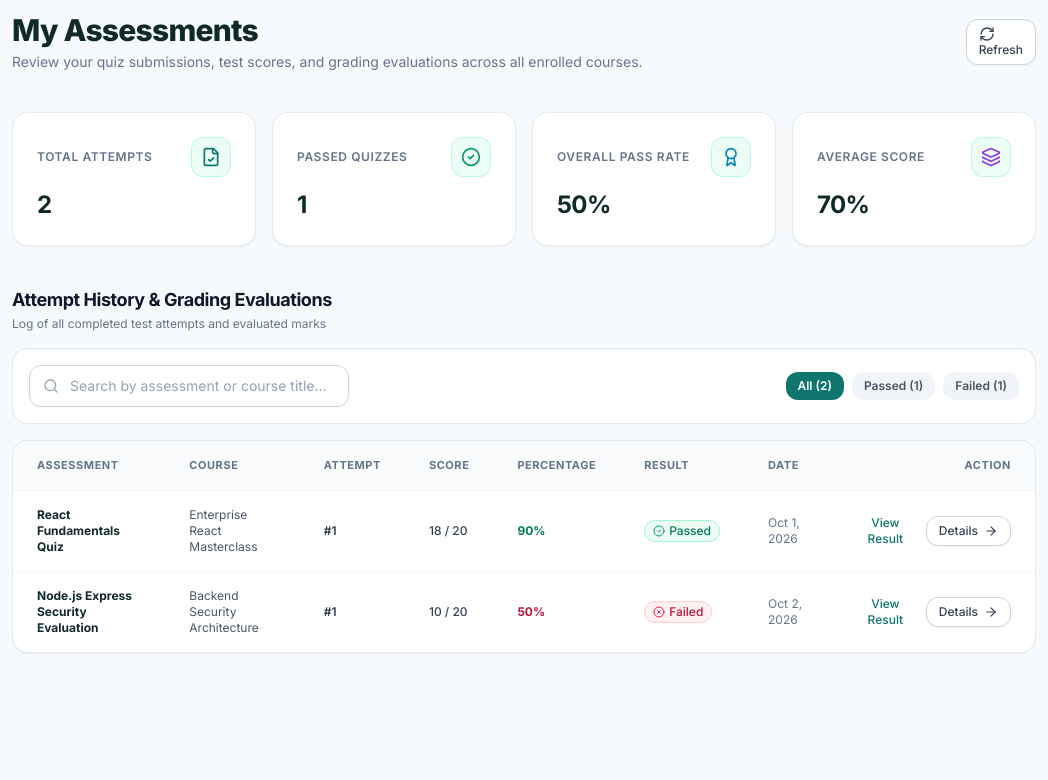
AssessmentsPage › filters attempts by passed and failed status tabs
Expected: the link "React Fundamentals Quiz" is shown, [37,506,120,554]
# Click Passed filter
Click the button "Passed (1)" at (894, 386), box [852,372,935,400]
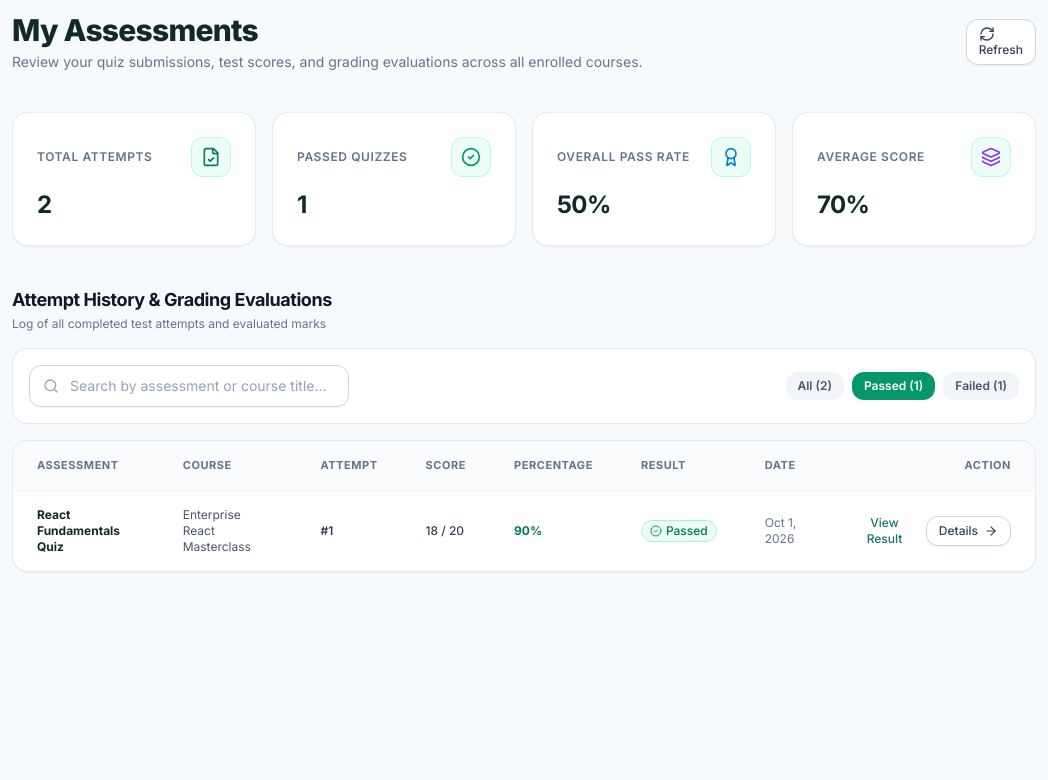
Expected: the link "React Fundamentals Quiz" is shown, [37,506,120,554]
Expected: the link "Node.js Express Security Evaluation" is gone
# Click Failed filter
Click the button "Failed (1)" at (981, 386), box [943,372,1019,400]
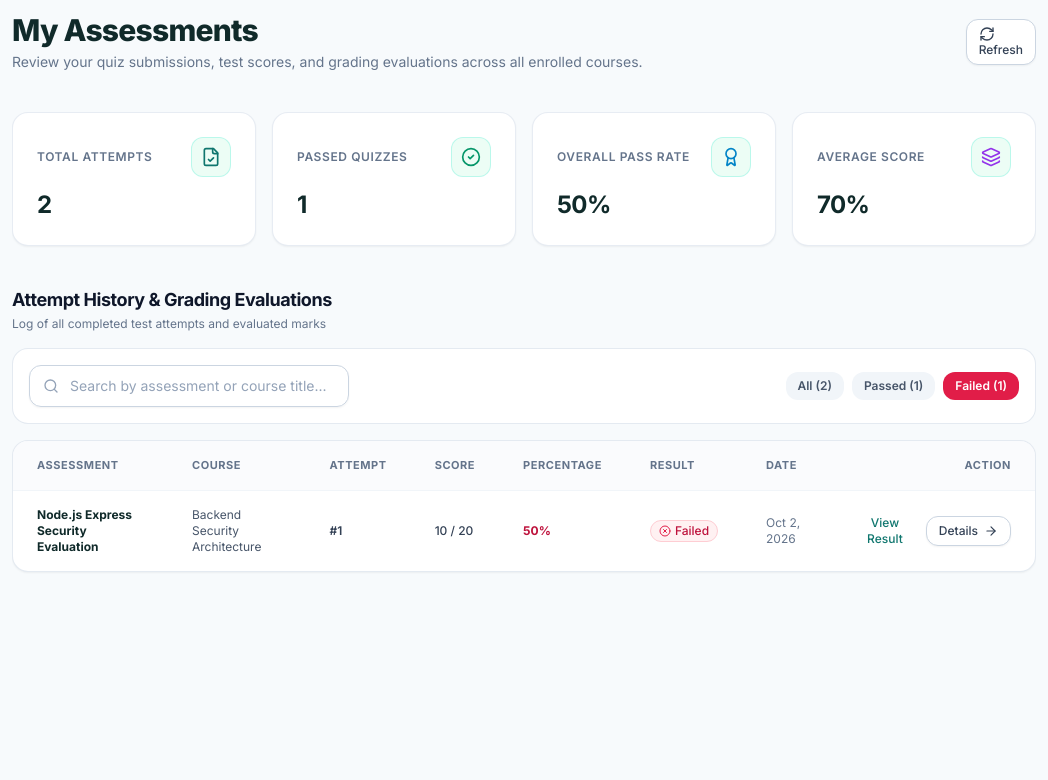
Expected: the link "React Fundamentals Quiz" is gone
Expected: the link "Node.js Express Security Evaluation" is shown, [37,506,132,554]
